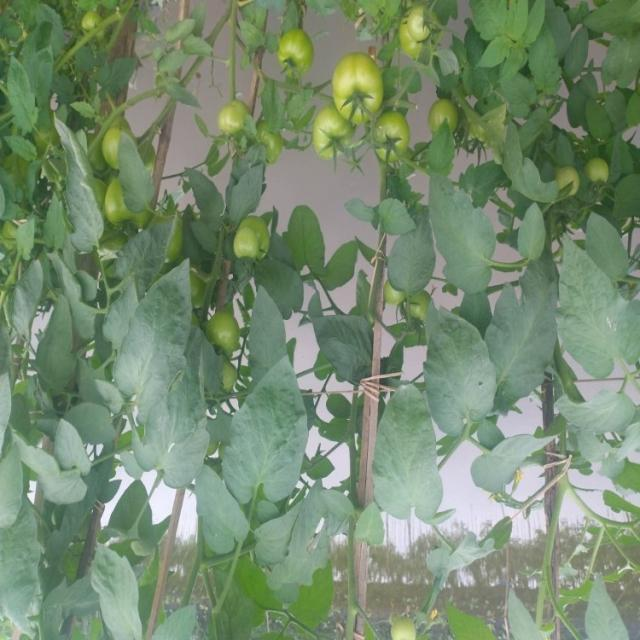tomato: (325, 55, 400, 139), (303, 102, 357, 159), (387, 7, 445, 59), (208, 217, 275, 257), (365, 109, 417, 158), (274, 26, 312, 87), (208, 104, 260, 137), (99, 126, 144, 160), (95, 177, 131, 219), (578, 161, 613, 204), (435, 94, 465, 138), (201, 312, 234, 352), (397, 292, 443, 320)
